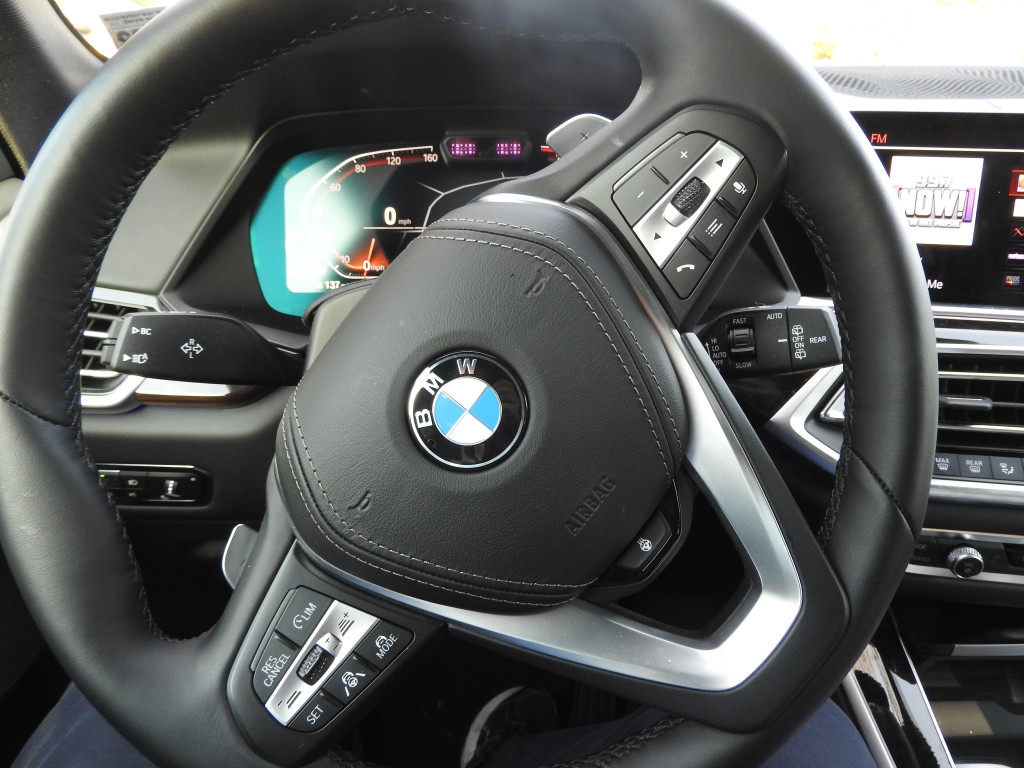bmw: (394, 336, 542, 488)
